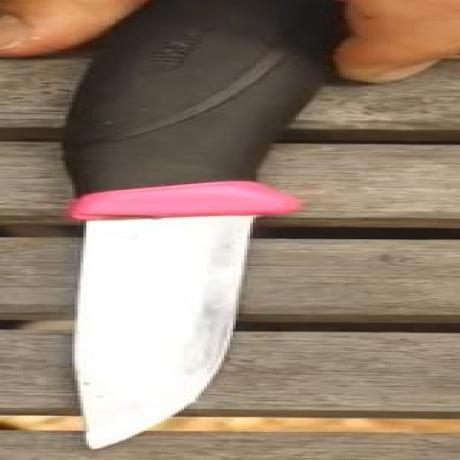weapon: (60, 63, 320, 450)
